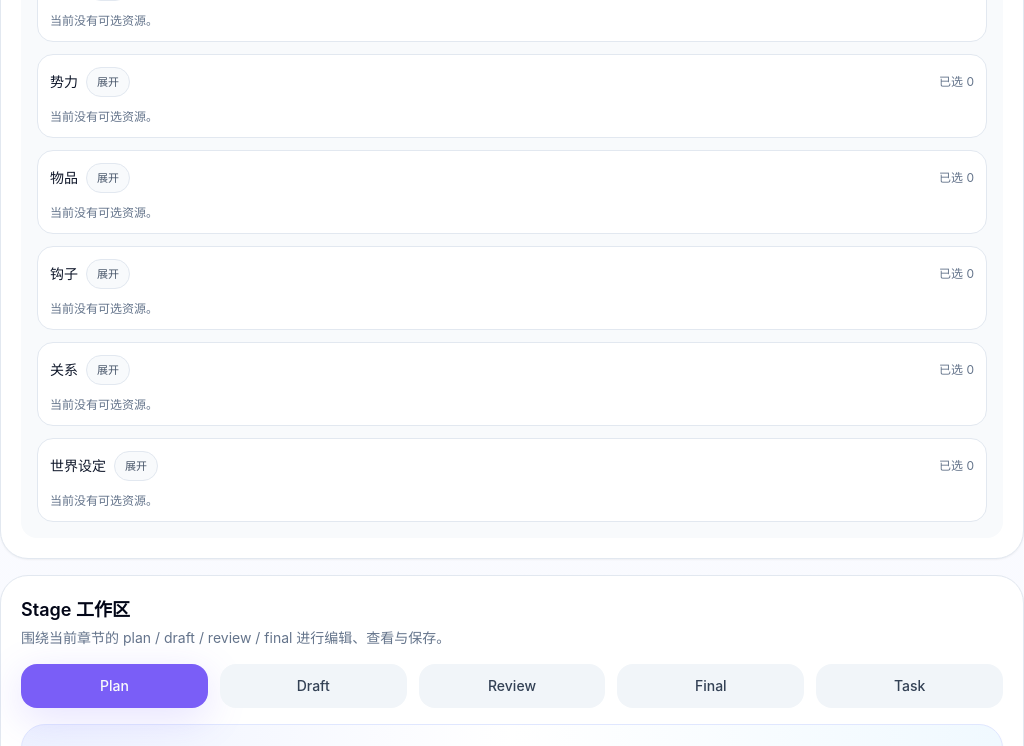
Scenario: ChapterWorkbenchPage › shows relation entity names alongside relation ids in selector
The image size is (1024, 746).
(page scrolled)
Click the button "展开" next to "关系" at [108, 370], box [86,355,130,385]
(page scrolled)
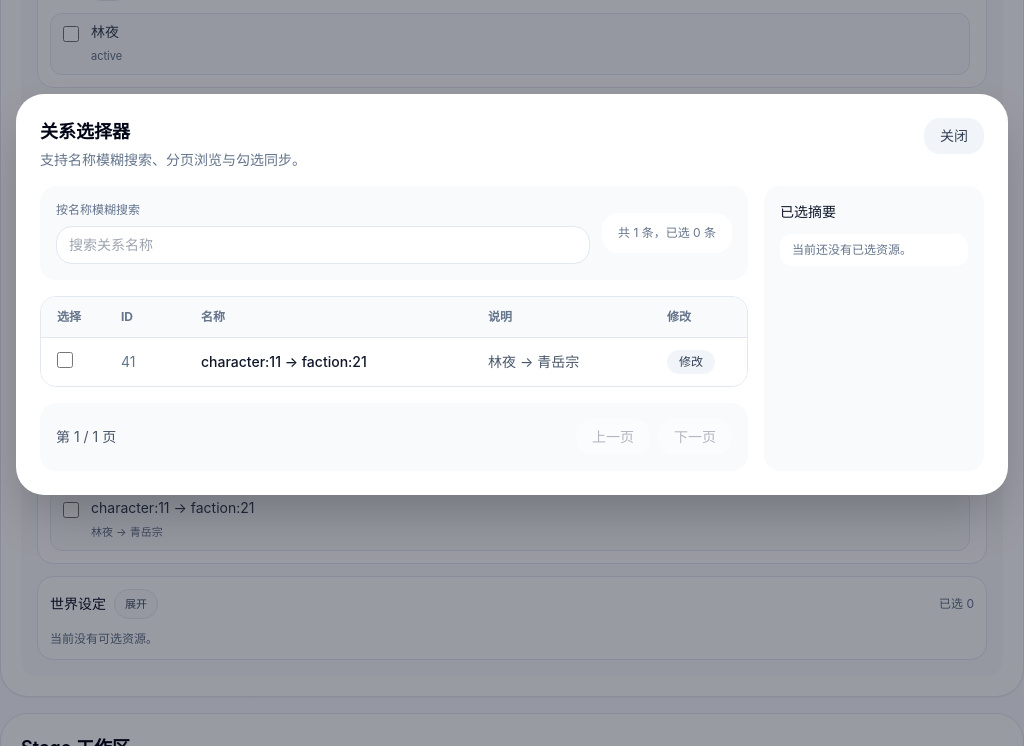
Expected: the text "character:11 → faction:21" is shown, [185,338,472,386]
Expected: the text "林夜 → 青岳宗" is shown, [472,338,651,386]
